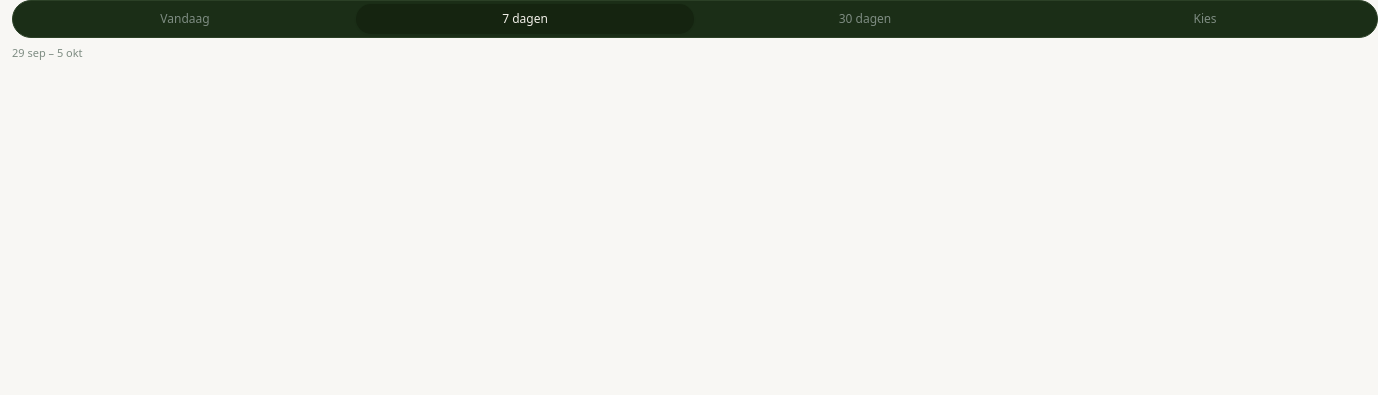
Test: PatroonPeriodeKiezer › laat geen dag in de toekomst kiezen
Click the button "Kies" at (1205, 19), box top-left (1036, 4), bottom-right (1374, 34)
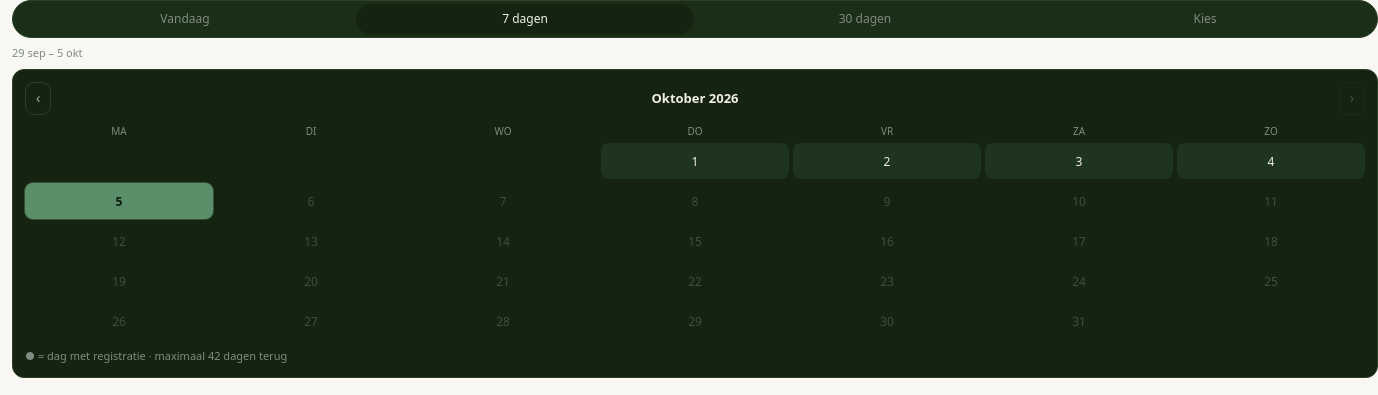
Expected: the button "6" is disabled, top-left (217, 183), bottom-right (405, 219)
